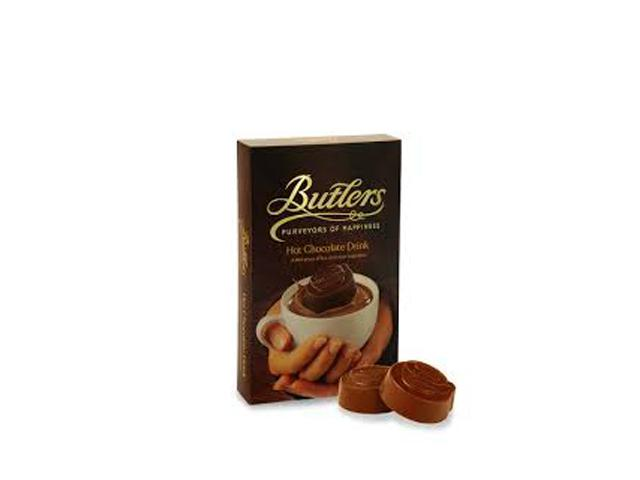chocolate: (225, 125, 423, 411)
